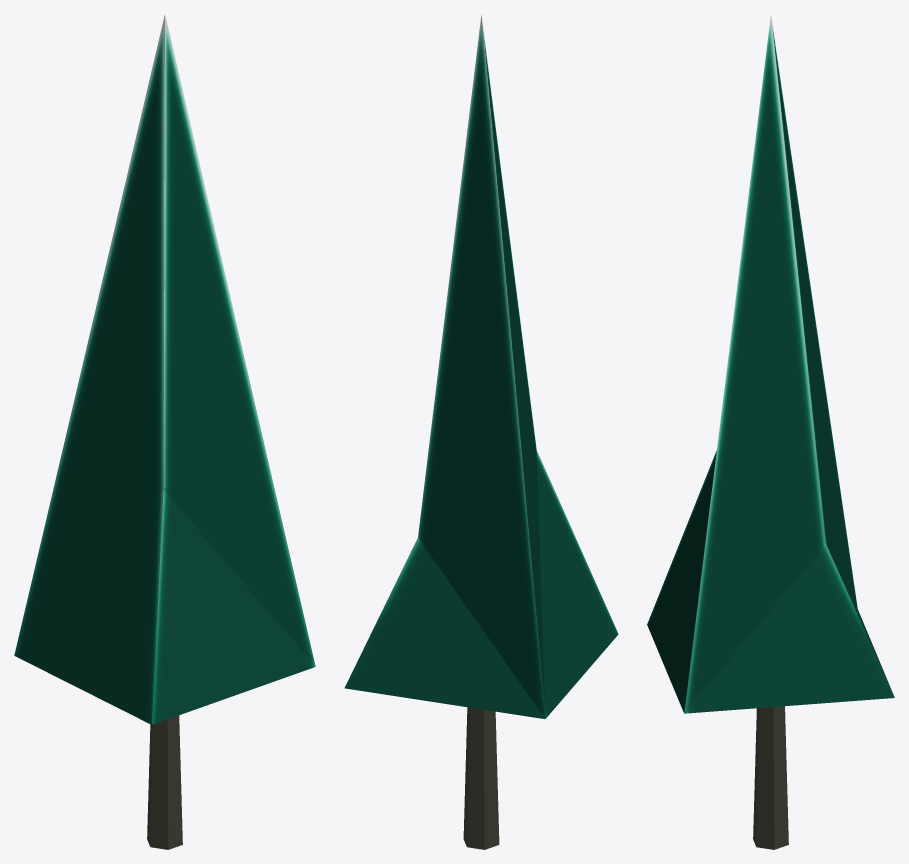
Rendered from tree03.fbx.
The picture shows the model from 3 angles, left to right: view 1: azimuth 30°, elevation 25°; view 2: azimuth 150°, elevation 25°; view 3: azimuth 270°, elevation 25°; orthographic projection.
Visible parts, largest first — view 1: tree03; view 2: tree03; view 3: tree03.
Part boxes in pixels (x1,y1,x2,y2): tree03: [14, 15, 315, 849]; tree03: [344, 14, 618, 849]; tree03: [647, 15, 894, 849].
Bounding box in the file's own units: 117 × 432 × 117.
